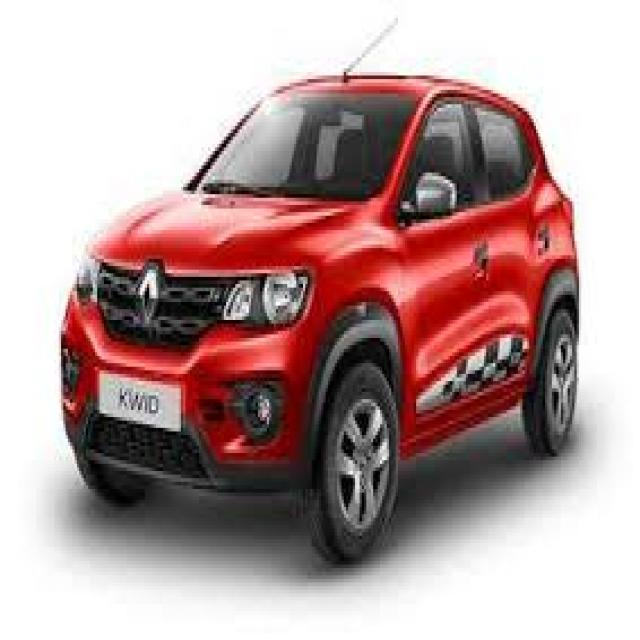Car: (54, 66, 588, 564)
